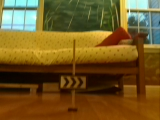right: (59, 75, 89, 89)
